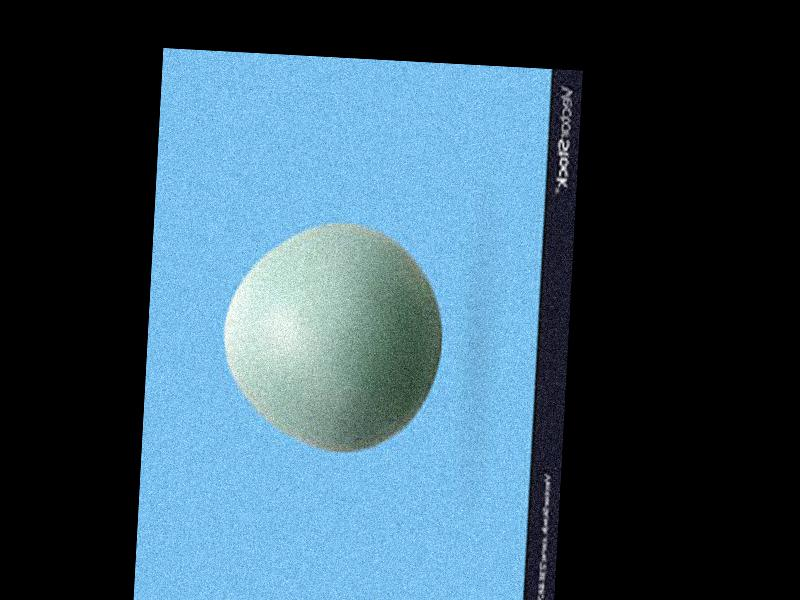Eggs: (217, 218, 446, 460)
